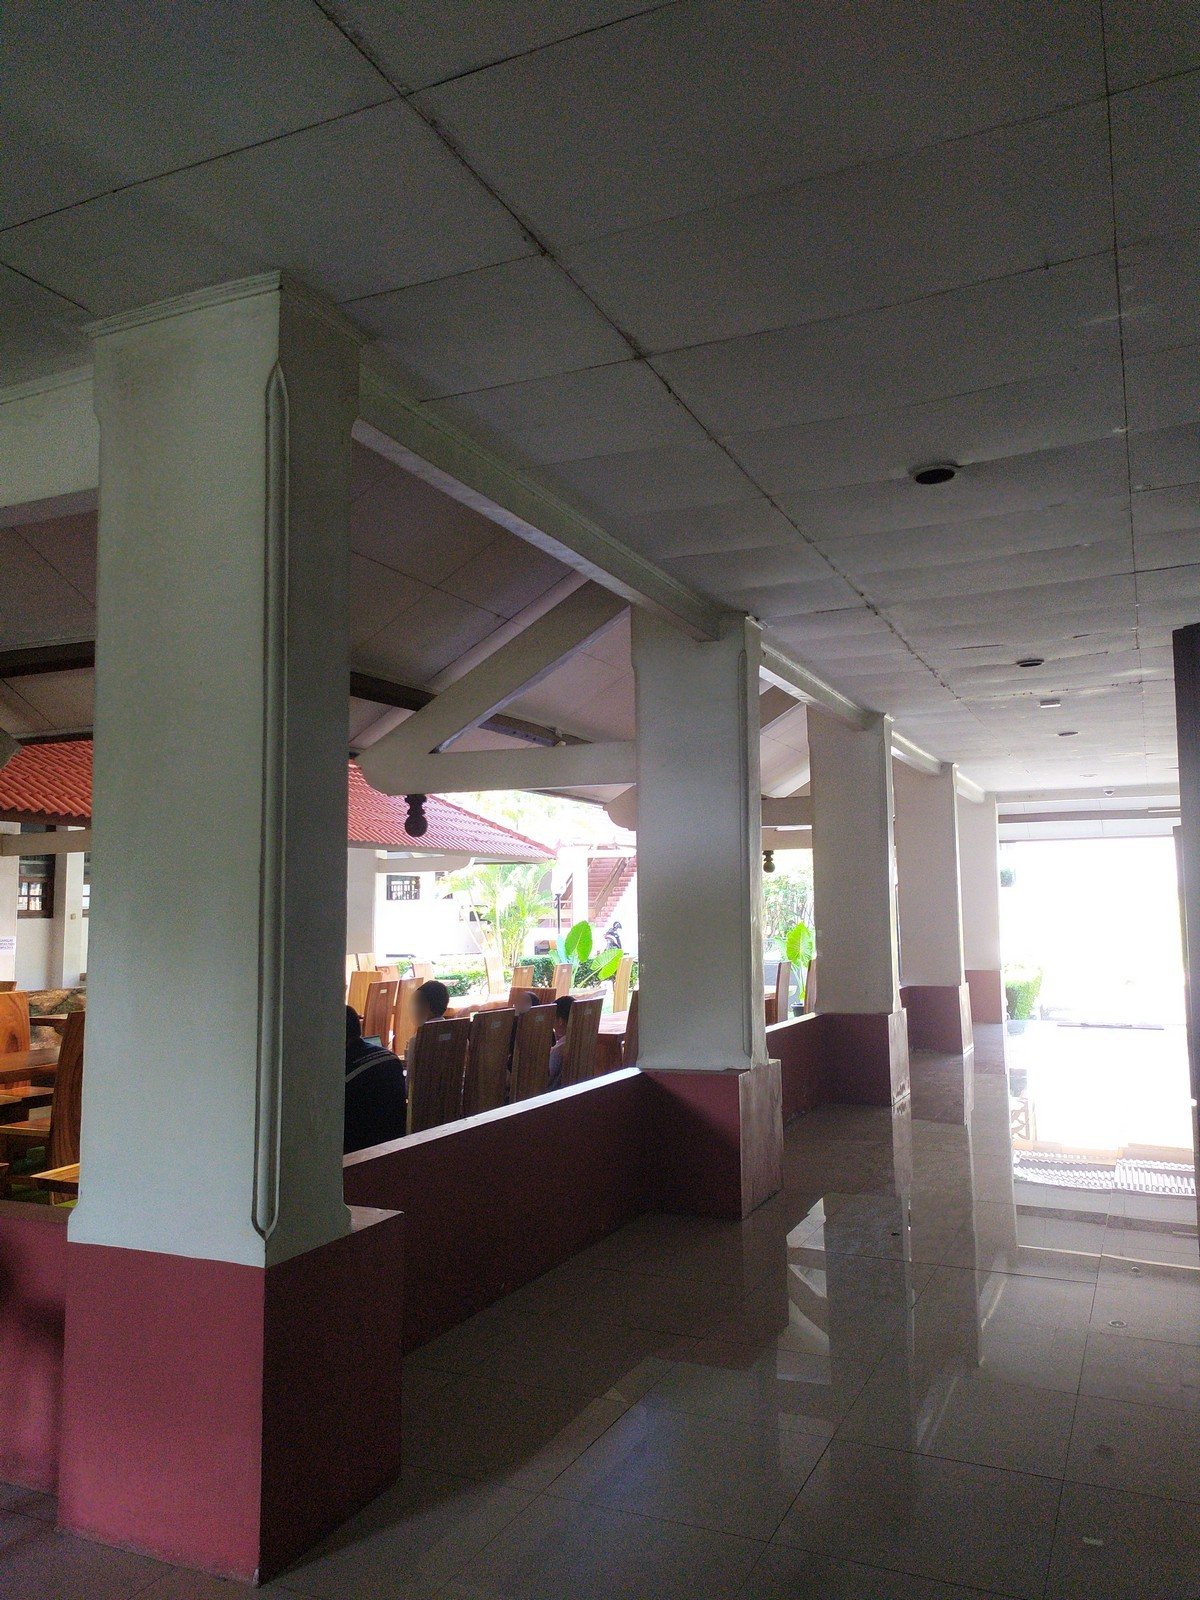concrete beam: (446, 740, 648, 803)
concrete column: (67, 278, 379, 1275), (623, 601, 782, 1078), (799, 693, 908, 1019), (894, 748, 977, 994)
